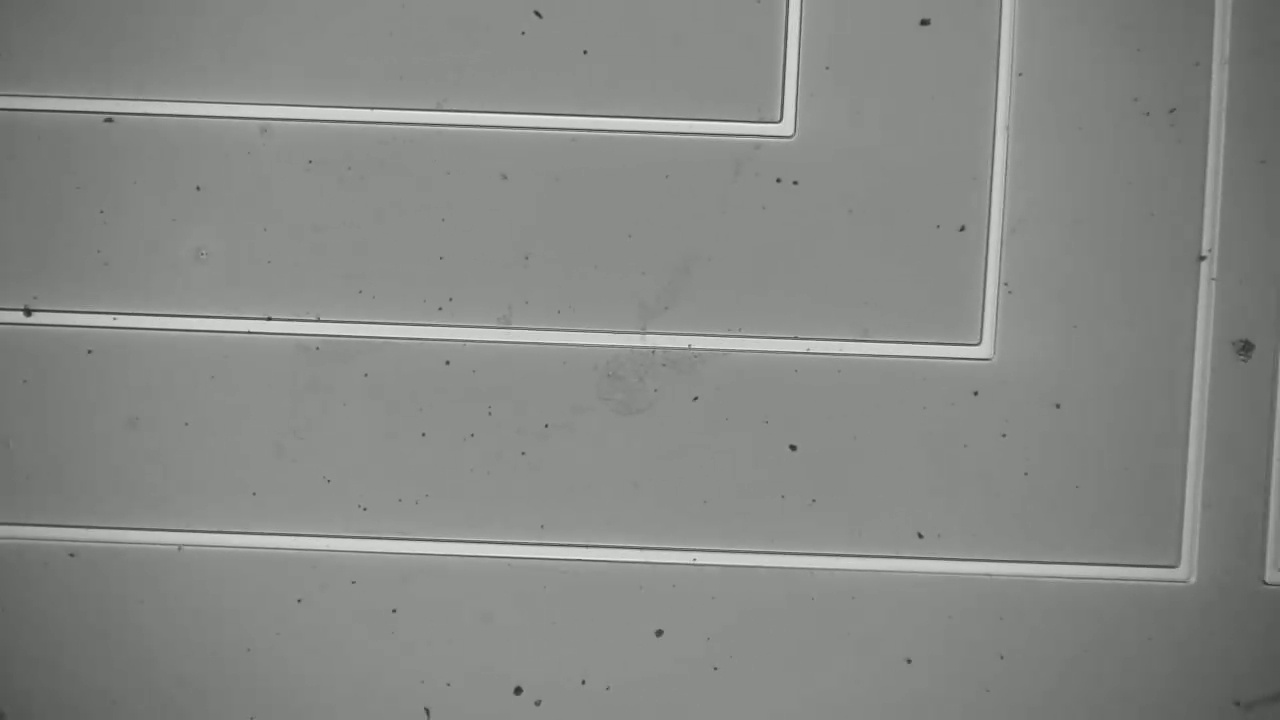stains_enbedded: (19, 303, 39, 332)
